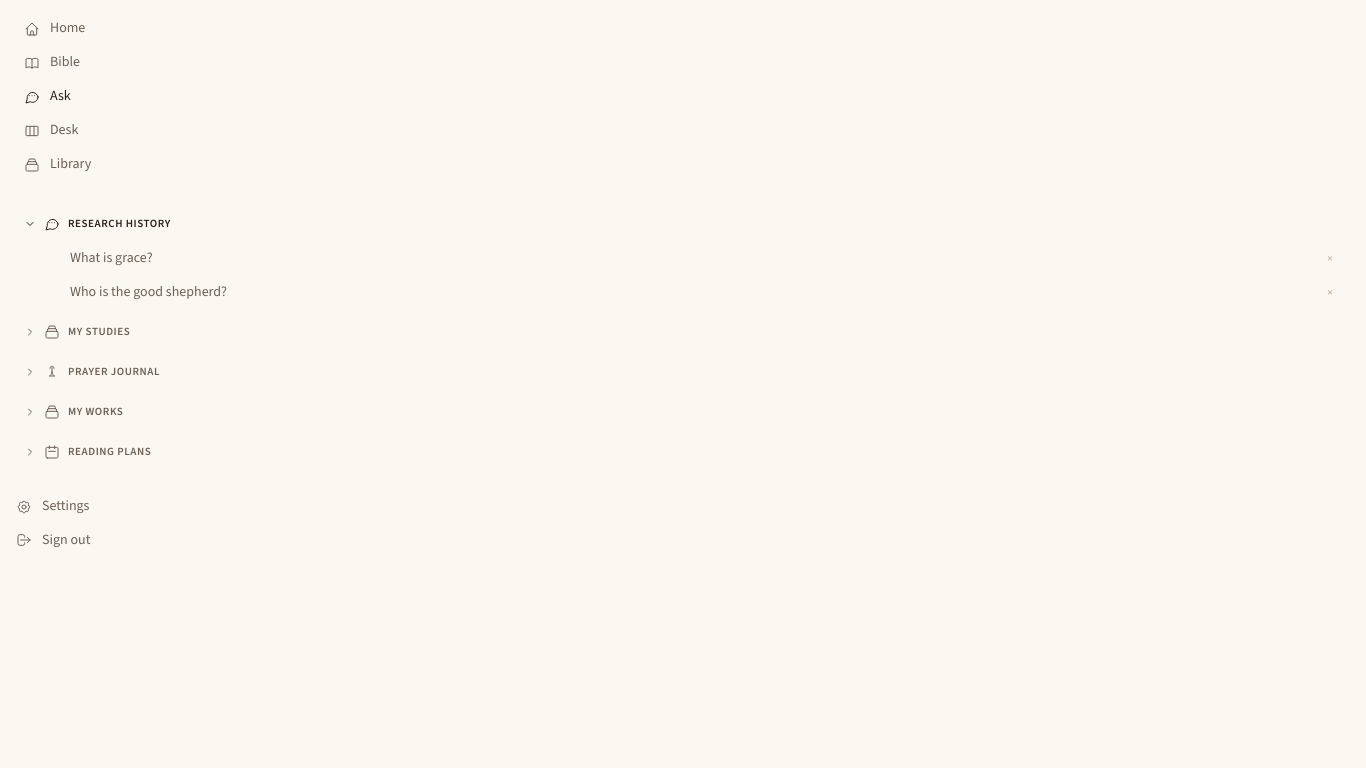
Test: the research-history delete control › removes the row optimistically
Click the button named "Delete research thread: What is grace?" at (1330, 259), box [1314, 243, 1346, 275]
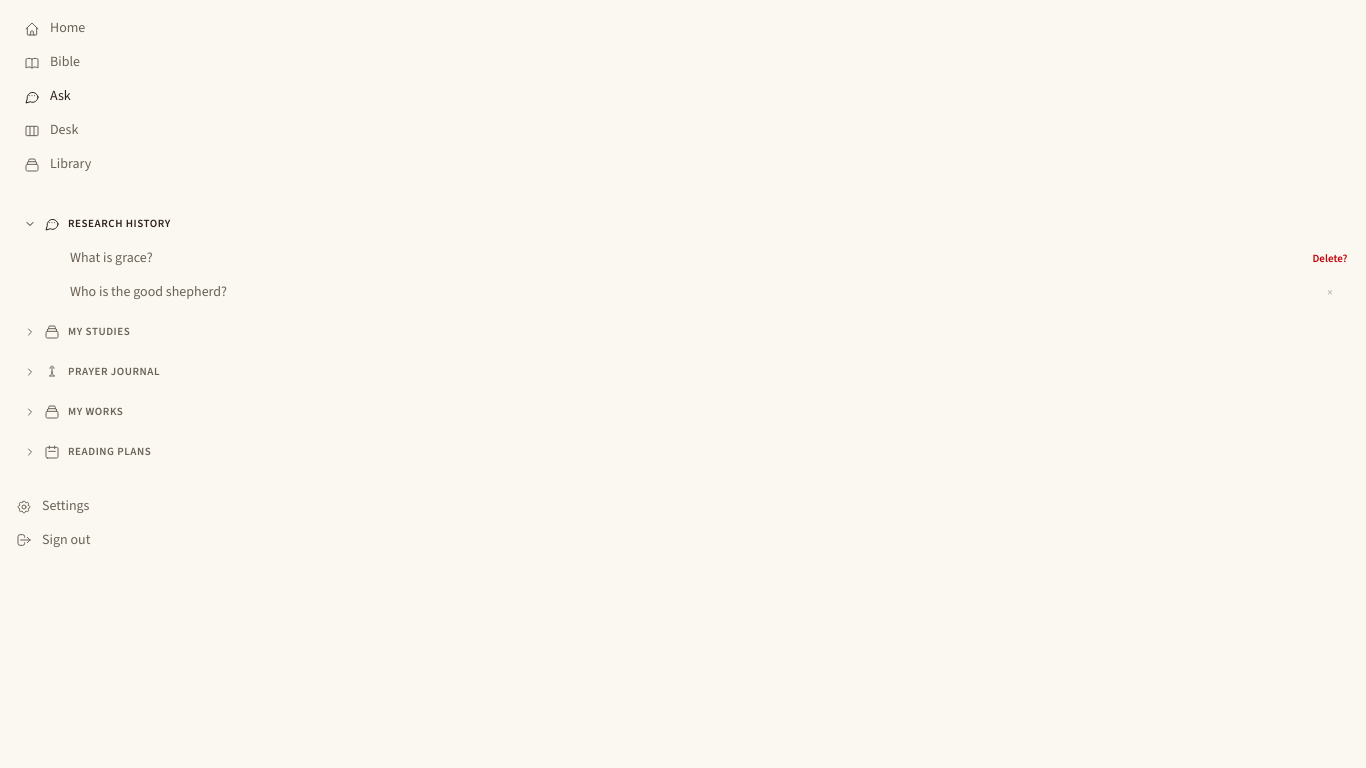
Click the button with aria-label "Confirm delete: What is grace?" at (1330, 259), box [1314, 243, 1346, 275]
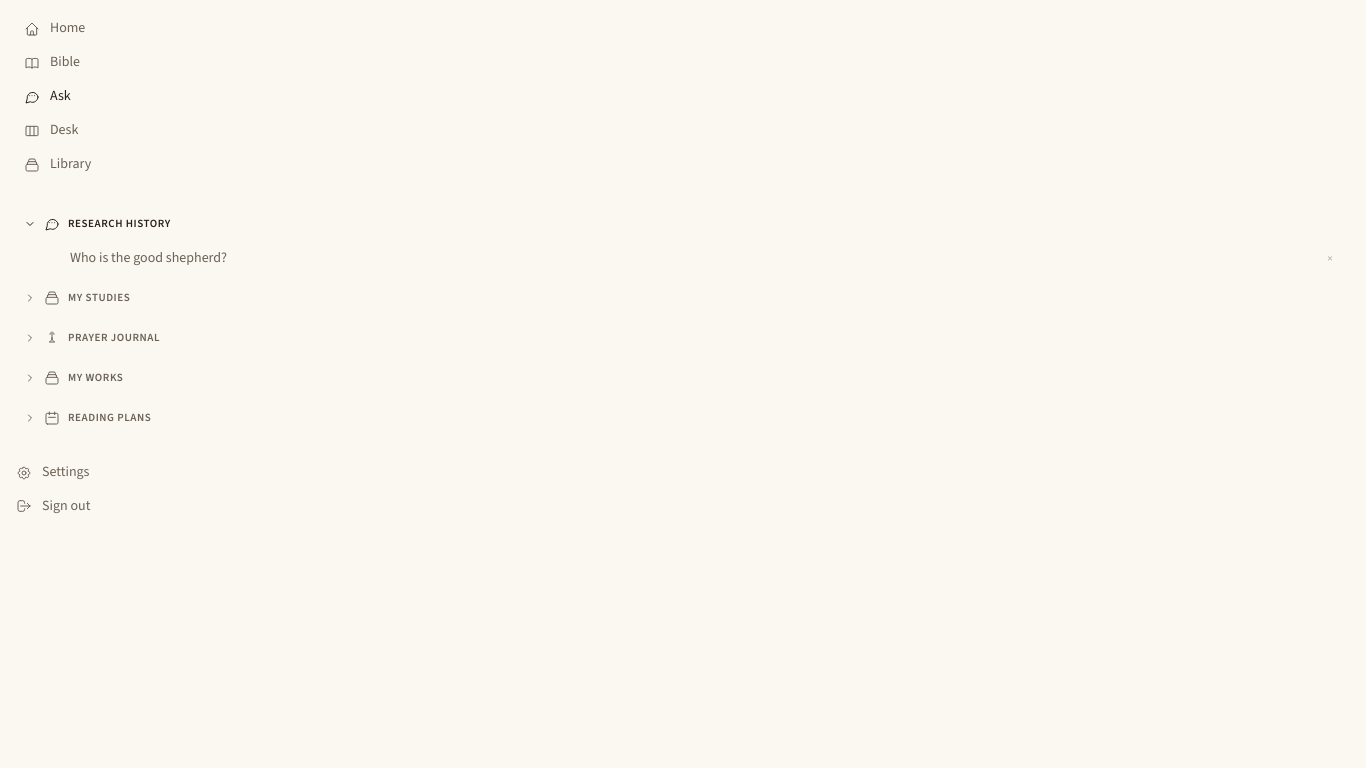
expect the link "What is grace?" is gone: met
